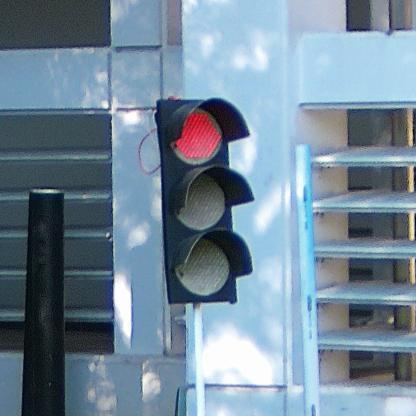red: (153, 98, 253, 306)
